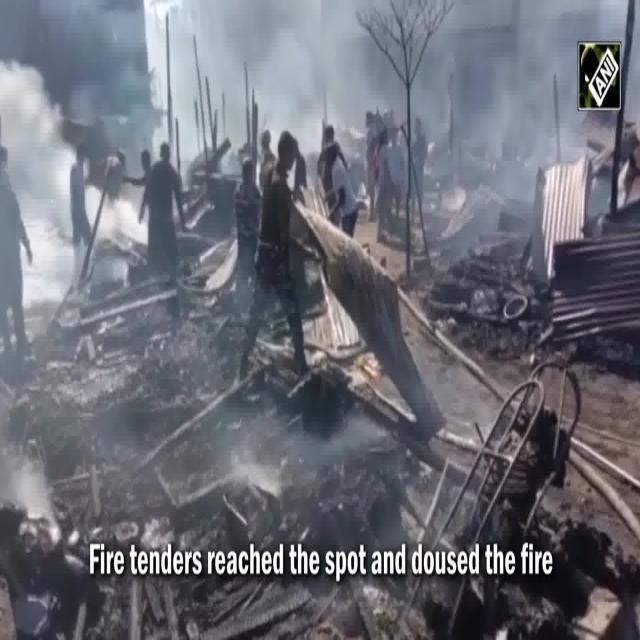Smoke: (215, 9, 358, 140), (456, 26, 552, 160), (6, 88, 49, 196)
